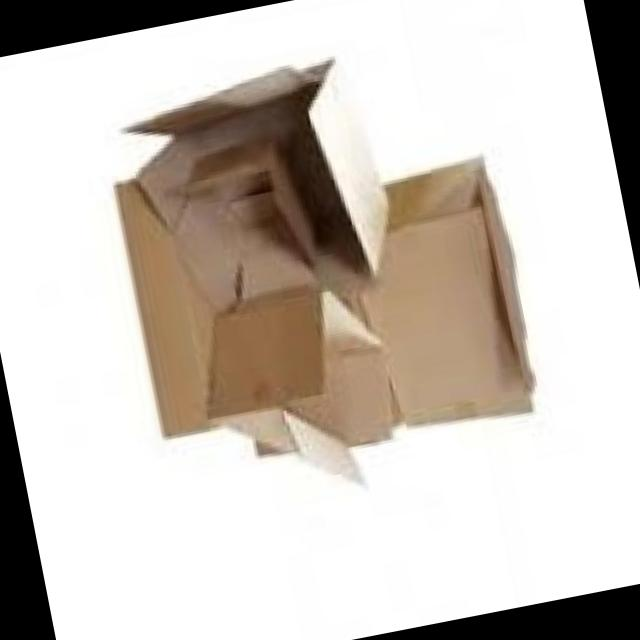cardboard paper: (118, 58, 536, 477)
